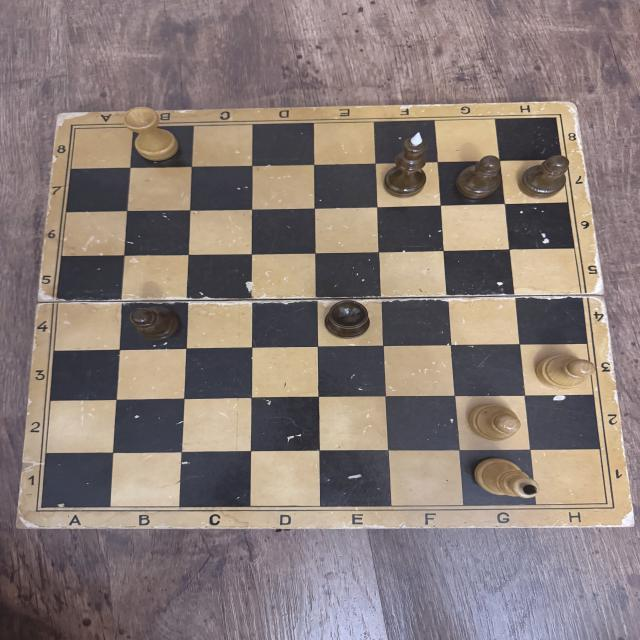black-king: (382, 130, 428, 199)
black-pawn: (455, 155, 505, 201), (518, 154, 569, 199), (128, 303, 180, 342)
black-rook: (322, 299, 373, 340)
white-king: (474, 456, 542, 503)
white-pawn: (536, 350, 596, 392), (469, 401, 522, 442)
white-rook: (122, 106, 180, 162)
